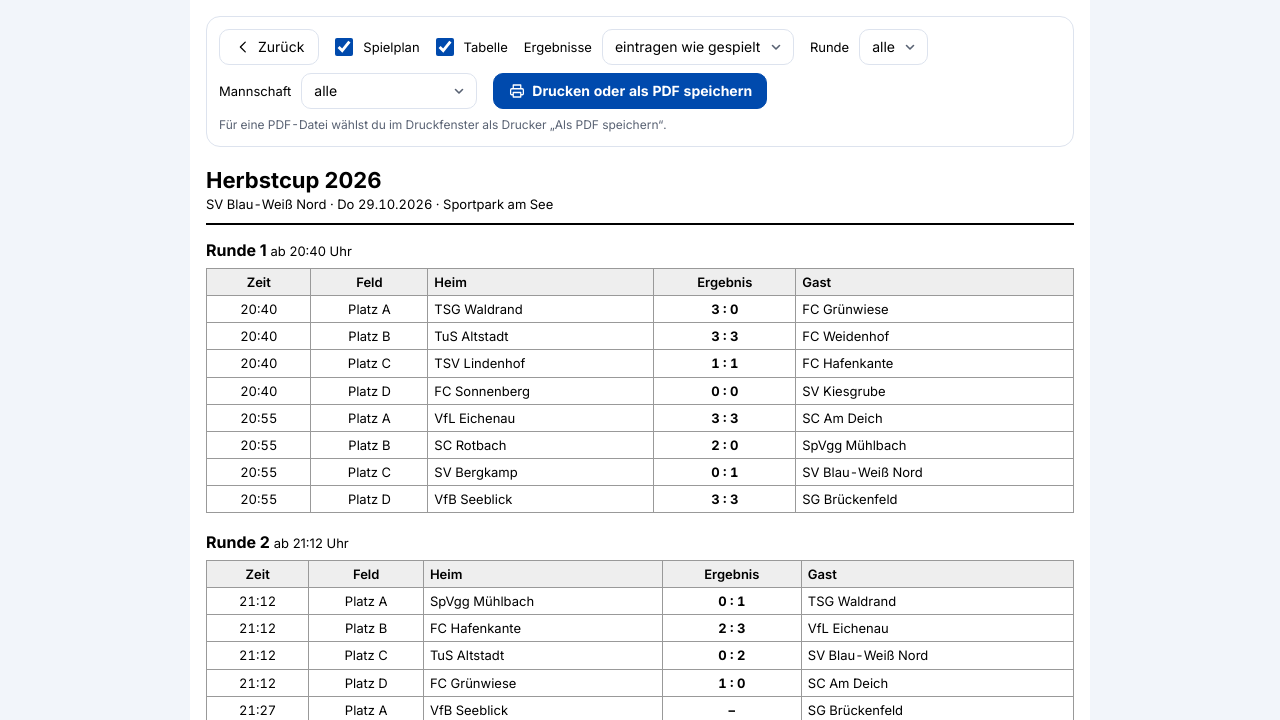
Test: App › Druckansicht: Spielplan und Tabelle, für Aushang auch ohne Ergebnisse
This screenshot has width=1280, height=720.
Expected: the heading "Herbstcup 2026" is shown, [206, 167, 381, 193]
Expected: the heading "Runde 1 ab 20:40 Uhr" is shown, [206, 240, 352, 260]
Select "leer zum Ausfüllen" in the dropdown labelled "Ergebnisse". click: (698, 47)
box: [602, 29, 794, 65]
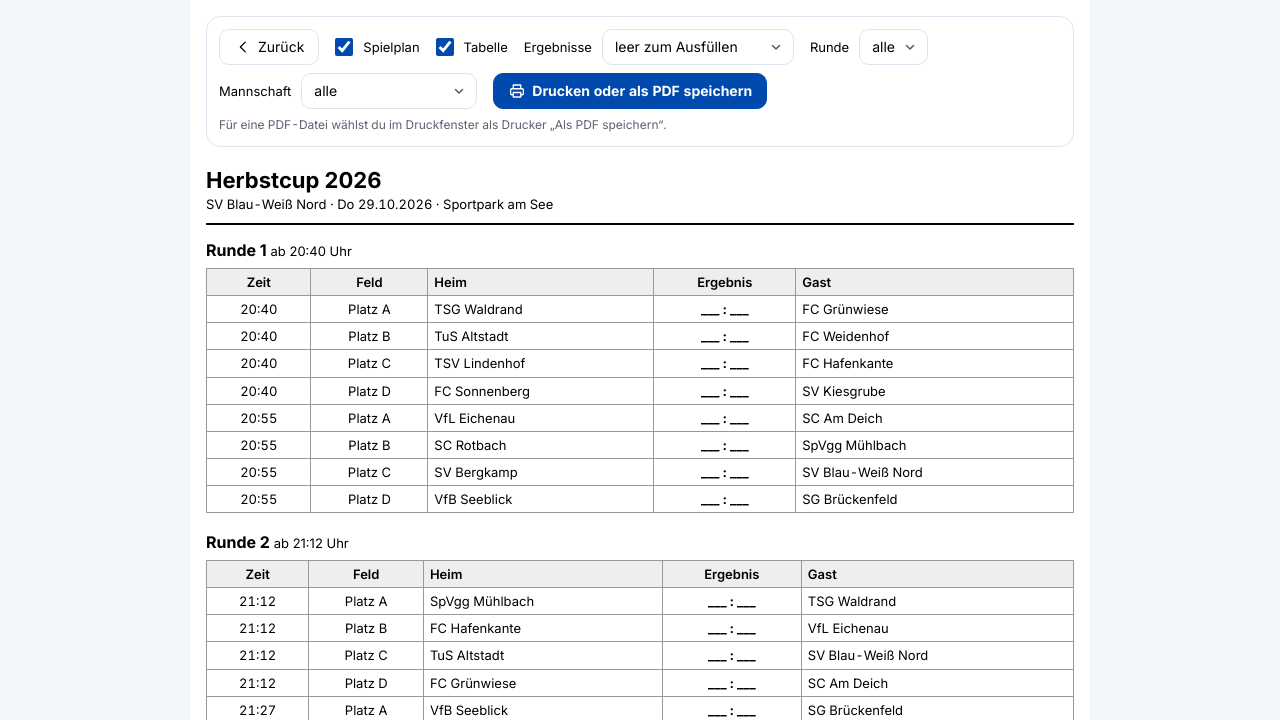
Expected: the 1st text "___ : ___" is shown, [654, 296, 796, 323]
